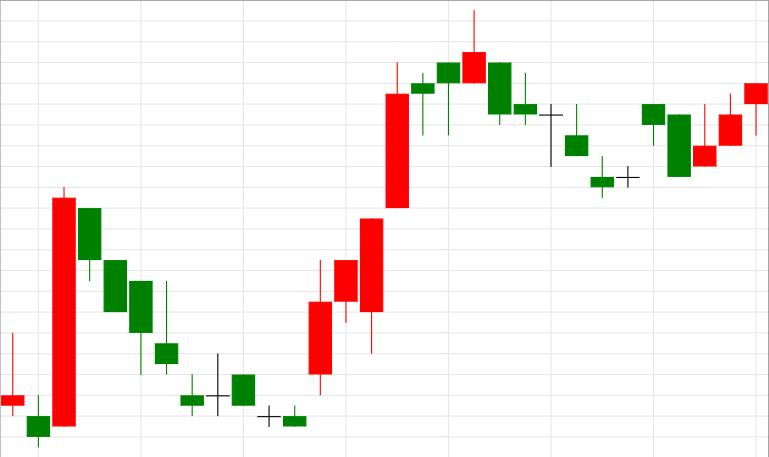shooting_star_fall: (309, 11, 486, 396)
